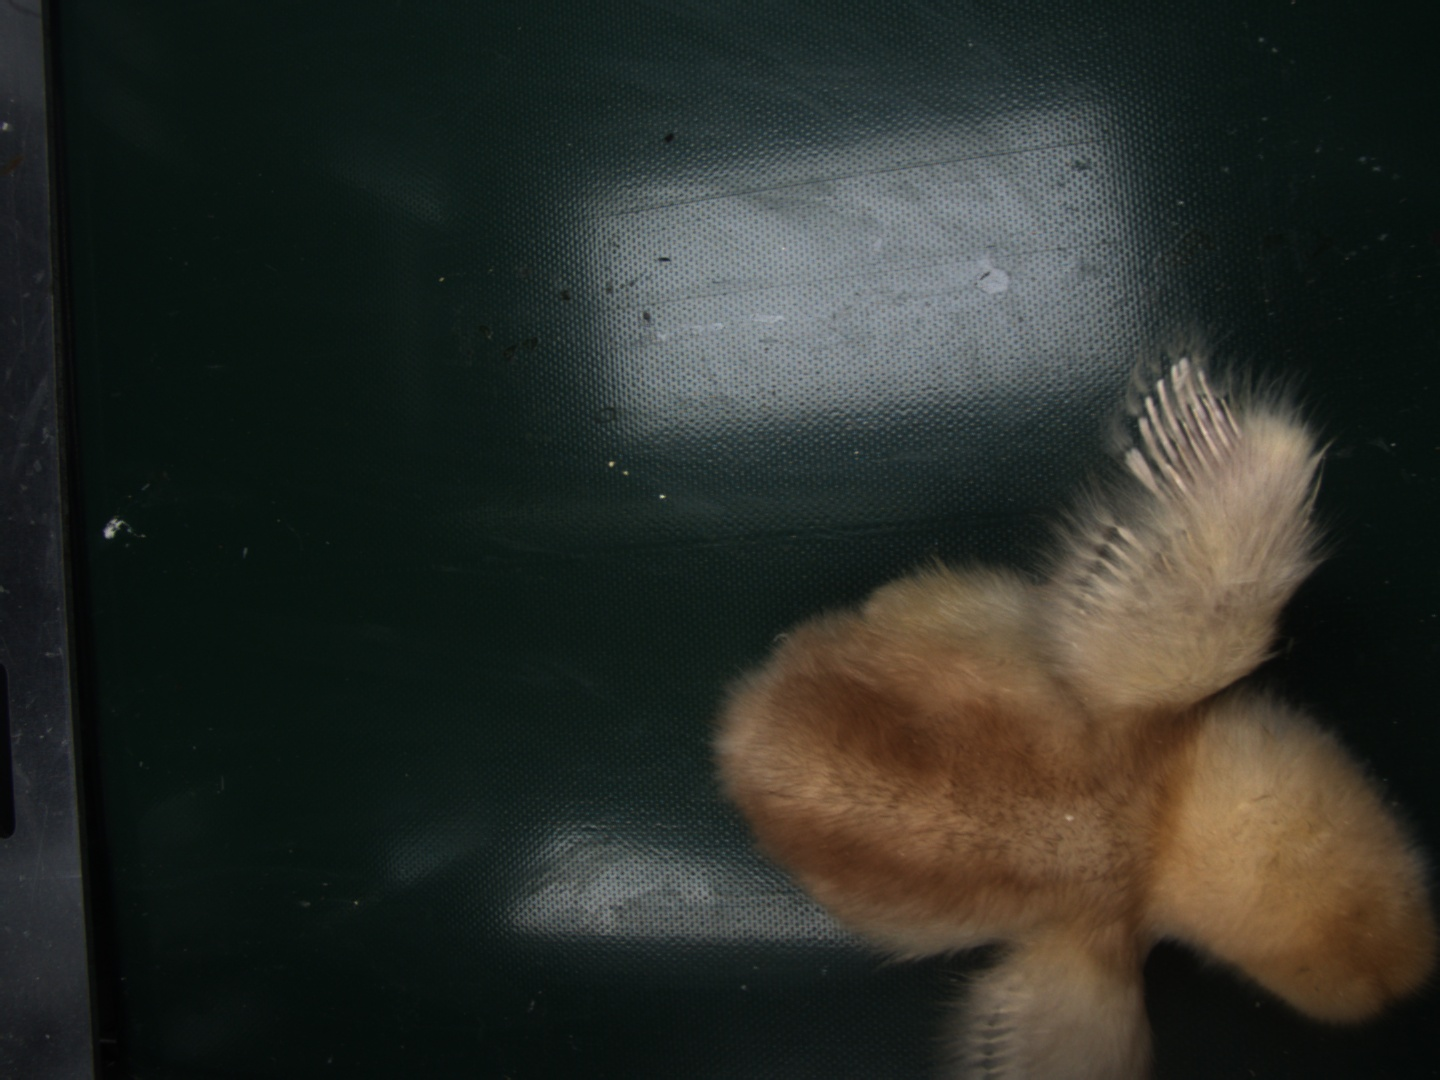female: (1121, 358, 1243, 501)
